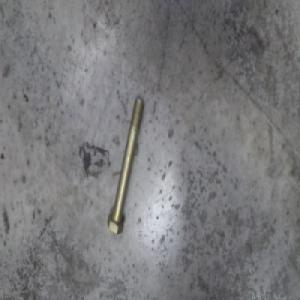Bolt: (106, 97, 145, 237)
